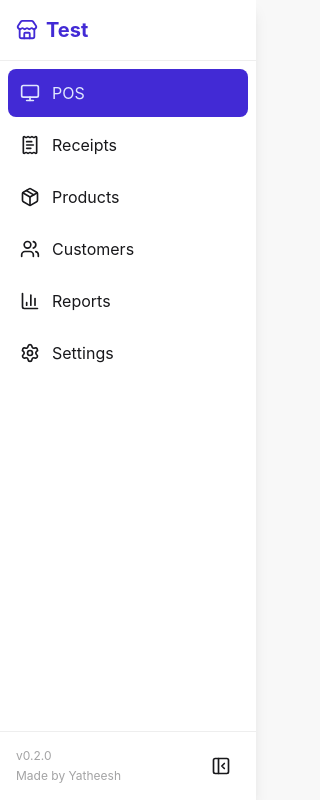
Test: Layout - PIN gating › collapse and expand toggles work
The image size is (320, 800).
Expected: the heading "Test" is shown, [16,16,88,44]
Click the button named "Collapse sidebar".
click(221, 766)  # box [202,754,240,778]
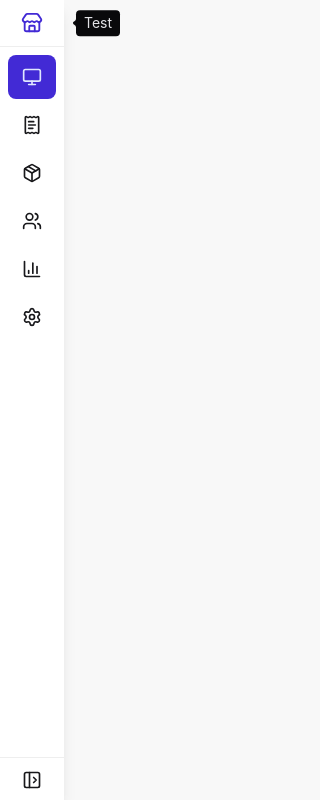
Expected: the link "Test" is gone
Click the button named "Expand sidebar".
click(32, 780)  # box [8,768,56,792]
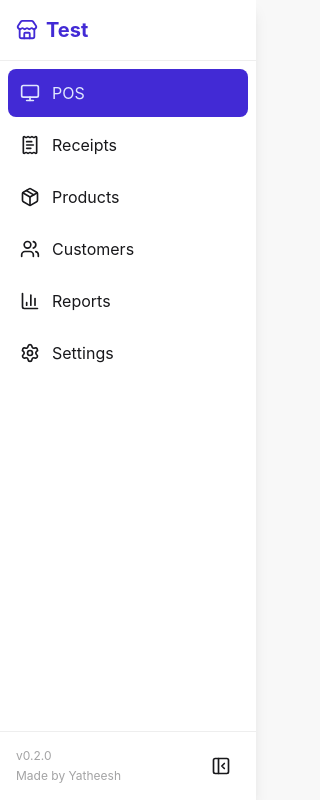
Expected: the heading "Test" is shown, [16,16,88,44]
